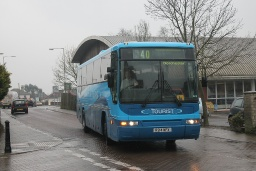bus: (76, 39, 201, 151)
car: (10, 98, 30, 116)
